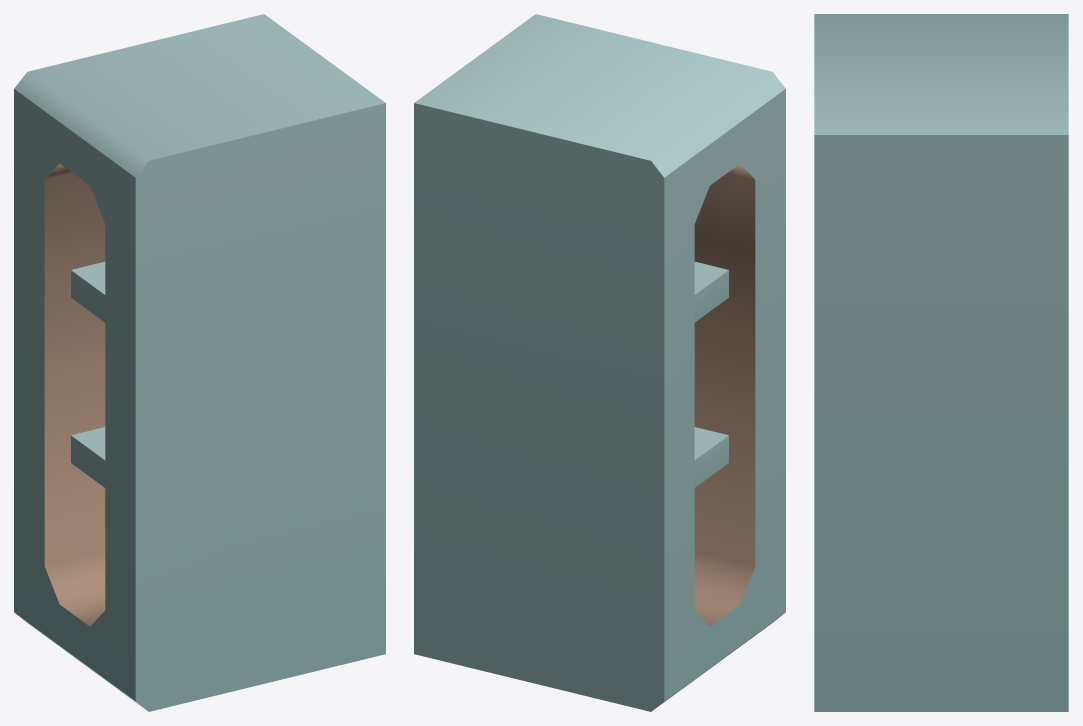
Rendered from cabinet-decorative-upper-open-narrower (%wall).glb.
The picture shows the model from 3 angles, left to right: view 1: azimuth 30°, elevation 25°; view 2: azimuth 150°, elevation 25°; view 3: azimuth 270°, elevation 25°; orthographic projection. The views are drawn at different scales.
Parts seen in each view (by area): view 1: cabinet-decorative-upper-open-narrower (%wall); view 2: cabinet-decorative-upper-open-narrower (%wall); view 3: cabinet-decorative-upper-open-narrower (%wall).
Boxes of the visible parts, x1,y1,x2,y2 form: cabinet-decorative-upper-open-narrower (%wall): (14,14,385,711); cabinet-decorative-upper-open-narrower (%wall): (414,14,785,711); cabinet-decorative-upper-open-narrower (%wall): (814,14,1068,711).
Size of the model in its own units: 0.2375 by 0.5 by 0.2.
